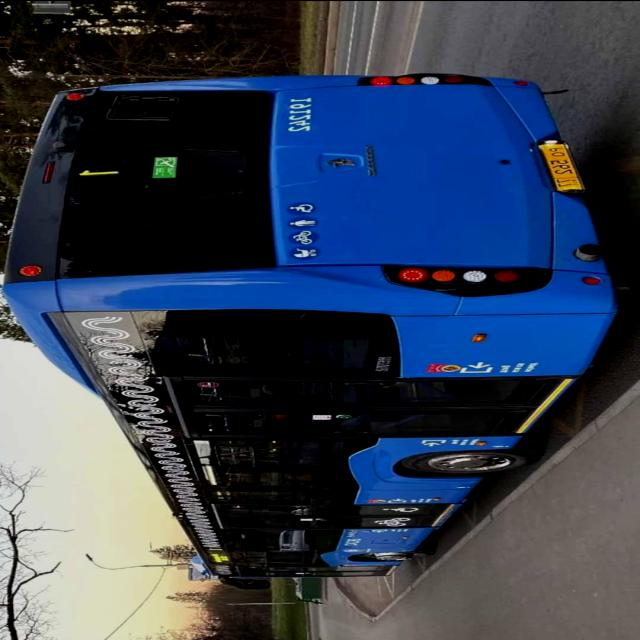bus: (2, 69, 635, 589)
